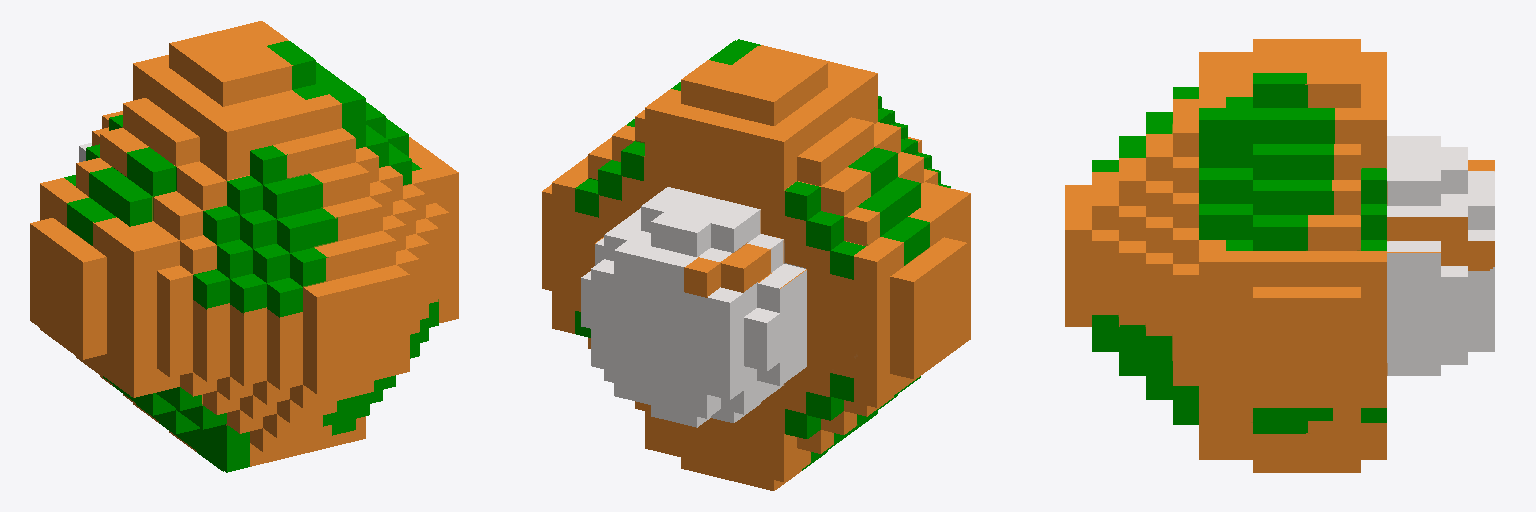
The picture shows the model from 3 angles: view 1: azimuth 30°, elevation 25°; view 2: azimuth 150°, elevation 25°; view 3: azimuth 270°, elevation 25°; orthographic projection.
Visible parts, largest first — view 1: 1_up; view 2: 1_up; view 3: 1_up.
Boxes of the visible parts, x1,y1,x2,y2 form: 1_up: [30, 21, 458, 472]; 1_up: [542, 39, 970, 490]; 1_up: [1065, 39, 1494, 472].
Bounding box in the file's own units: 160 × 160 × 160.
Materials: 1 (1 with a texture image).